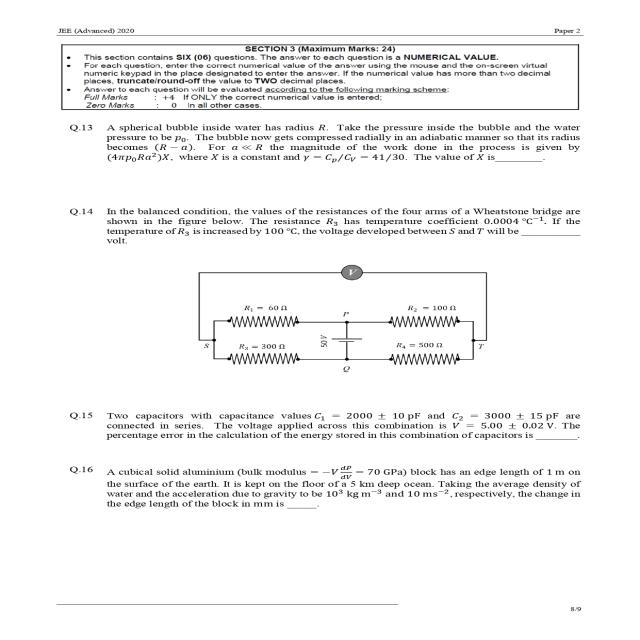Instruction: (45, 37, 615, 114)
Question_Answer_Block: (45, 192, 615, 384), (45, 110, 615, 178), (45, 457, 615, 518), (45, 394, 615, 448)
Question_Block: (45, 192, 615, 384), (45, 110, 615, 178), (45, 457, 615, 518), (45, 394, 615, 448)
Question_Paper_Area: (45, 38, 615, 602)
